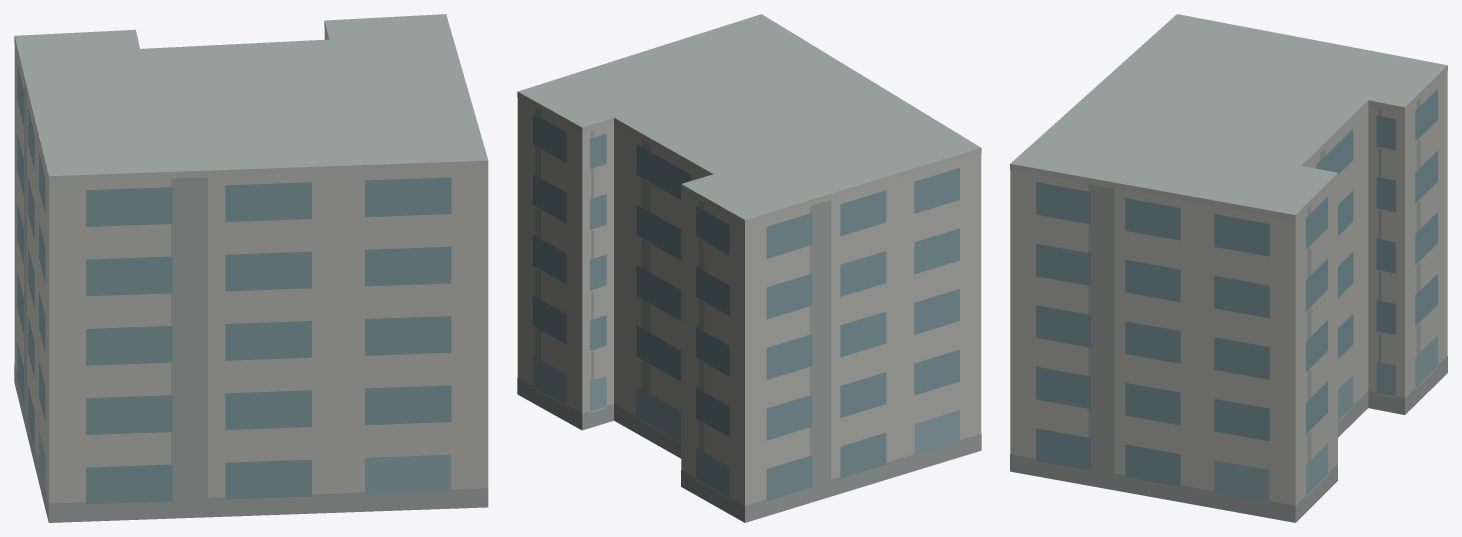
Rendered from survey-upis-32520790.glb.
3 renders of one model, left to right at view 1: azimuth 30°, elevation 25°; view 2: azimuth 150°, elevation 25°; view 3: azimuth 270°, elevation 25°, orthographic. The views are drawn at different scales.
Parts seen in each view (by area): view 1: survey-upis-32520790.tmp; view 2: survey-upis-32520790.tmp; view 3: survey-upis-32520790.tmp.
Part boxes in pixels (<box>): survey-upis-32520790.tmp: <box>14,14,488,522</box>; survey-upis-32520790.tmp: <box>517,14,981,522</box>; survey-upis-32520790.tmp: <box>1010,14,1447,522</box>.
Size of the model in its own units: 17.39 by 12.4 by 15.99.
